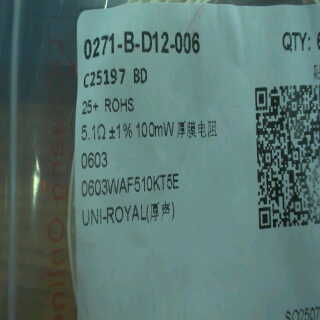5.1R: (79, 119, 107, 150)
